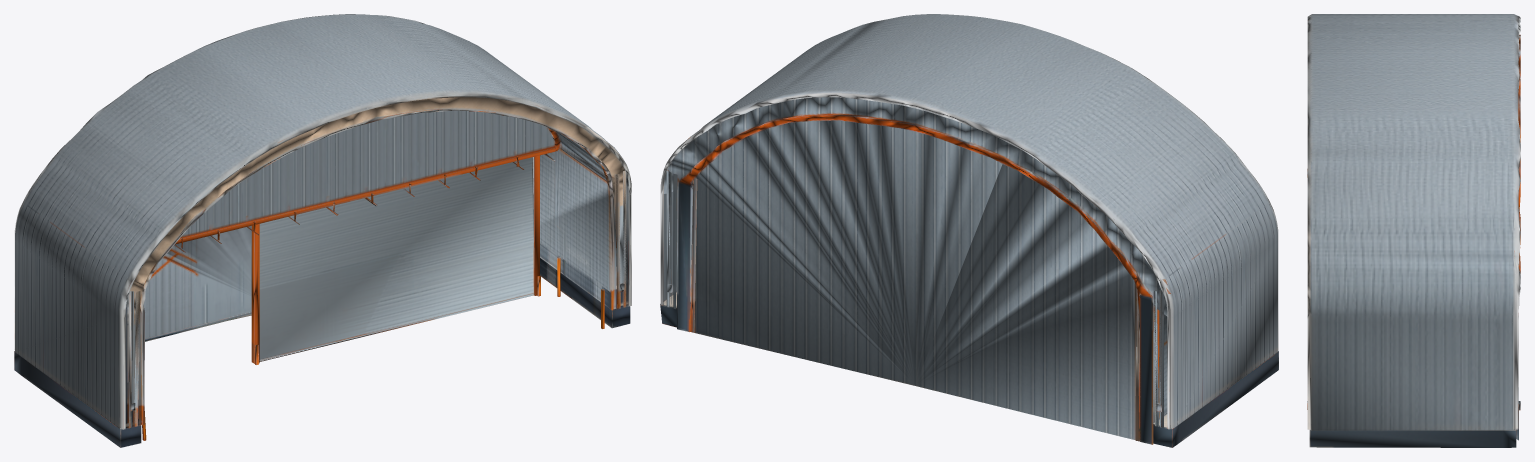
Rendered from Hangar.fbx.
The picture shows the model from 3 angles, left to right: view 1: azimuth 30°, elevation 25°; view 2: azimuth 150°, elevation 25°; view 3: azimuth 270°, elevation 25°; orthographic projection. The views are drawn at different scales.
Visible parts, largest first — view 1: Mesh_0; view 2: Mesh_0; view 3: Mesh_0.
Part boxes in pixels (bbox=[...]): Mesh_0: bbox=[14, 14, 631, 447]; Mesh_0: bbox=[660, 14, 1278, 447]; Mesh_0: bbox=[1307, 14, 1520, 447].
Bounding box in the file's own units: 94.68 × 50.34 × 35.16.
1 material, 1 textured.
